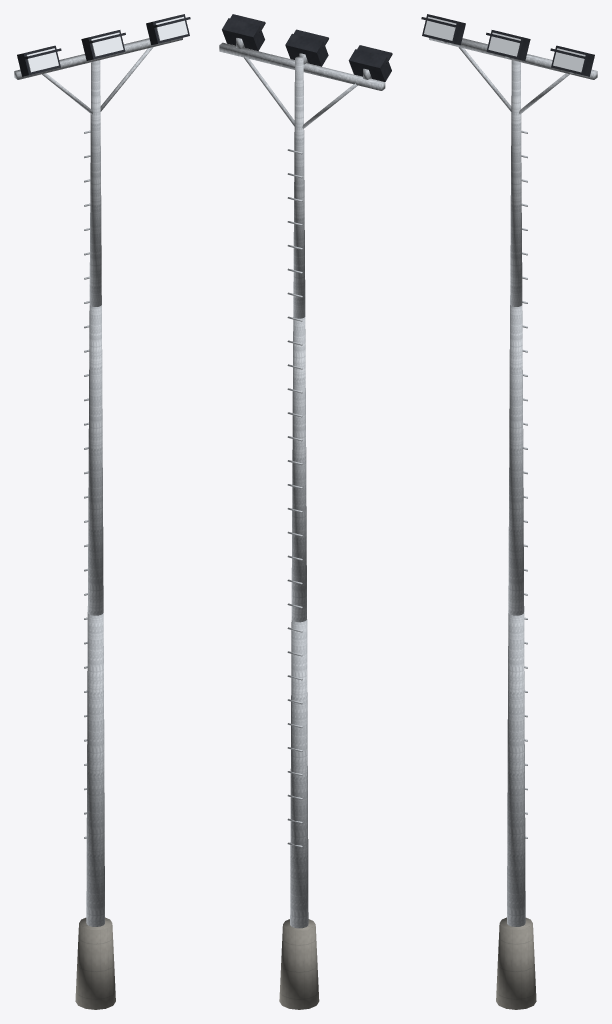
File: floodlight_mast.glb
3 renders of one model, left to right at view 1: azimuth 30°, elevation 25°; view 2: azimuth 150°, elevation 25°; view 3: azimuth 330°, elevation 25°, orthographic.
Parts seen in each view (by area): view 1: Mast_steel, Mast_concrete, Mast_housings, Mast_Floodlight_Lens; view 2: Mast_steel, Mast_housings, Mast_concrete; view 3: Mast_steel, Mast_concrete, Mast_housings, Mast_Floodlight_Lens.
Boxes of the visible parts, box(x1,y1,x2,y2) form: Mast_steel: box(14, 38, 182, 926); Mast_concrete: box(75, 917, 115, 1009); Mast_housings: box(17, 14, 190, 76); Mast_Floodlight_Lens: box(26, 16, 187, 72); Mast_steel: box(219, 38, 385, 928); Mast_housings: box(222, 14, 392, 81); Mast_concrete: box(279, 919, 319, 1009); Mast_steel: box(429, 38, 597, 926); Mast_concrete: box(496, 917, 536, 1009); Mast_housings: box(421, 14, 594, 76); Mast_Floodlight_Lens: box(424, 16, 585, 72).
Bounding box in the file's own units: 3.2 × 18.04 × 0.8073.
Materials: 4 (3 with a texture image).
